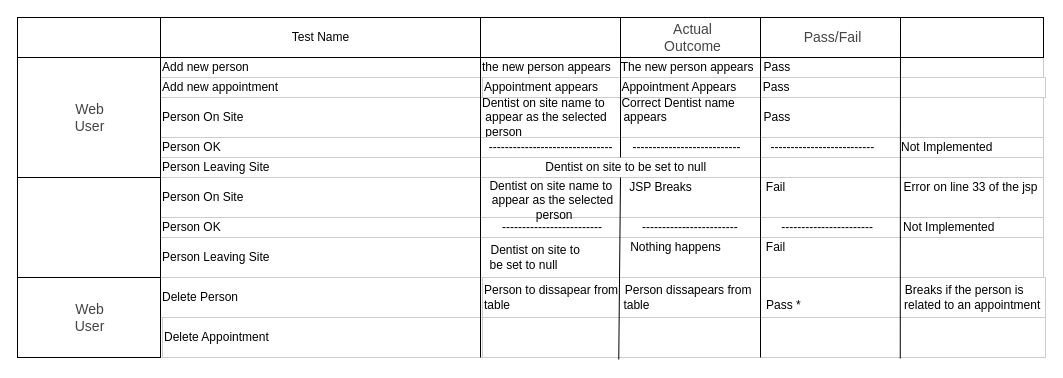
Some shapes in this 1063 by 378 pixel diagram are drawn without their labels. Each missing label, with the box of its shape:
Actor: (16, 16, 160, 58)
Appointment to Appointment dissapear from table dissapears from table Pass: (482, 316, 1046, 358)
Expected Outcome: (480, 16, 624, 58)
Further Notes: (900, 16, 1044, 58)
ReST User: (16, 176, 160, 278)
